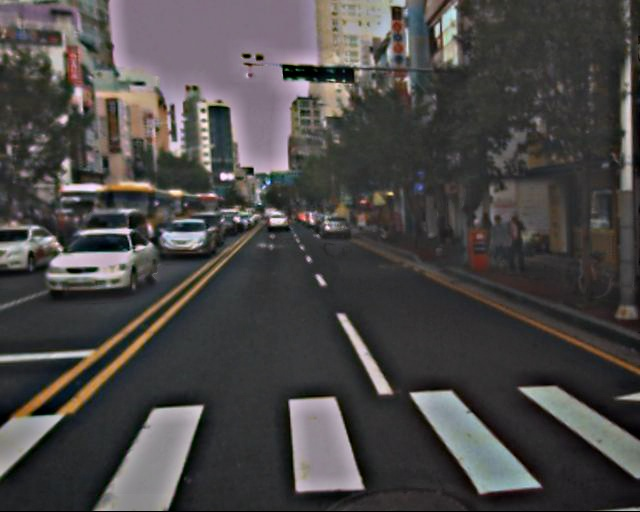person: (501, 212, 528, 278), (485, 217, 508, 272), (433, 207, 450, 249), (415, 204, 432, 245)
